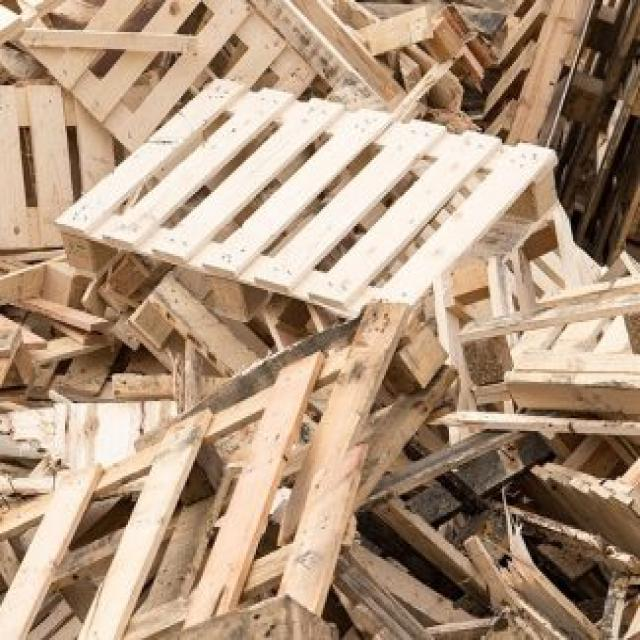green waste: (3, 1, 634, 637)
